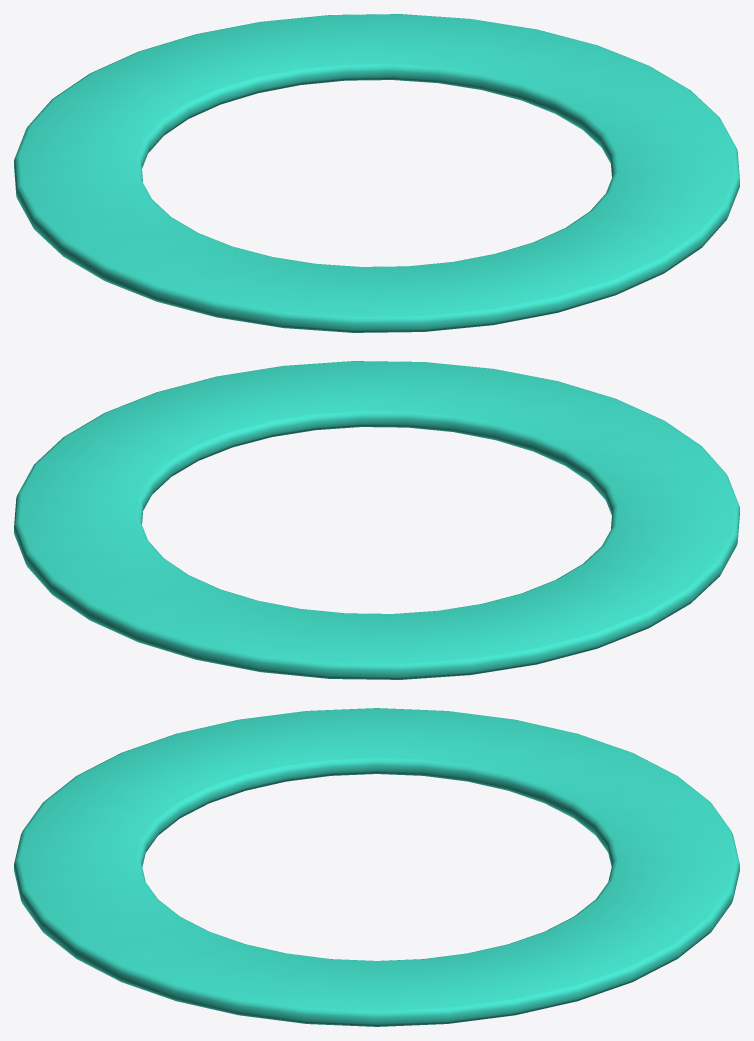
The picture shows the model from 3 angles, top to bottom: view 1: azimuth 30°, elevation 25°; view 2: azimuth 150°, elevation 25°; view 3: azimuth 270°, elevation 25°; orthographic projection.
Visible parts, largest first — view 1: Cylinder; view 2: Cylinder; view 3: Cylinder.
Part boxes in pixels (<box>): Cylinder: <box>14,14,739,332</box>; Cylinder: <box>14,361,739,679</box>; Cylinder: <box>14,708,739,1026</box>.
Size of the model in its own units: 0.0435 by 0.00109 by 0.0435.
